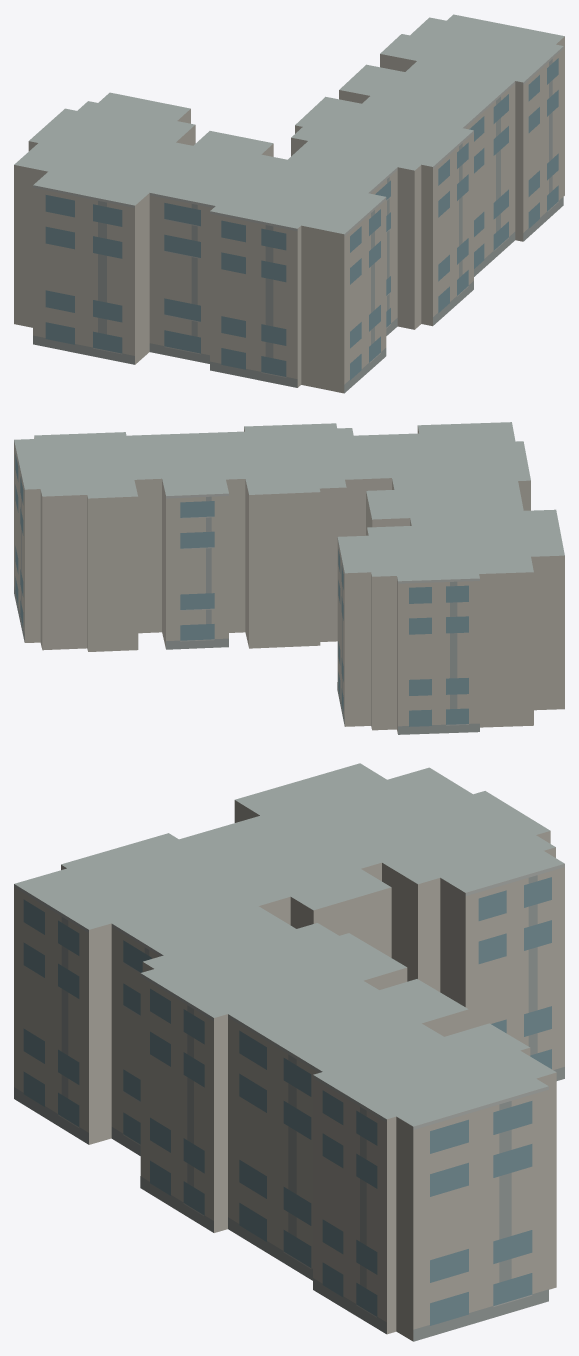
Rendered from residential-70a67040-01a3-473e-bcaf-09a3b2df8389.glb.
3 views of the same model, one above another, from view 1: azimuth 30°, elevation 25°; view 2: azimuth 150°, elevation 25°; view 3: azimuth 270°, elevation 25° (orthographic). The views are drawn at different scales.
Visible parts, largest first — view 1: residential-70a67040-01a3-473e-bcaf-09a3b2df8389.tmp; view 2: residential-70a67040-01a3-473e-bcaf-09a3b2df8389.tmp; view 3: residential-70a67040-01a3-473e-bcaf-09a3b2df8389.tmp.
Boxes of the visible parts, <box> form: residential-70a67040-01a3-473e-bcaf-09a3b2df8389.tmp: <box>14,14,564,393</box>; residential-70a67040-01a3-473e-bcaf-09a3b2df8389.tmp: <box>14,422,564,734</box>; residential-70a67040-01a3-473e-bcaf-09a3b2df8389.tmp: <box>14,763,564,1341</box>.
Bounding box in the file's own units: 55.28 × 15.25 × 35.41.
